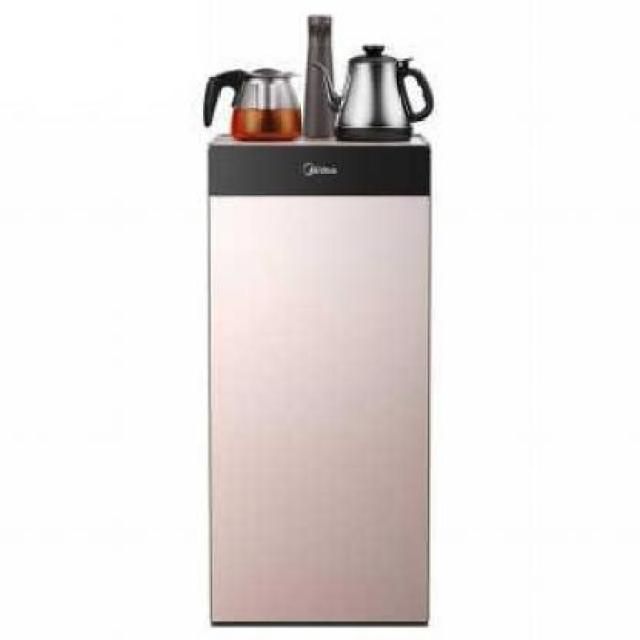cooler: (202, 11, 436, 630)
